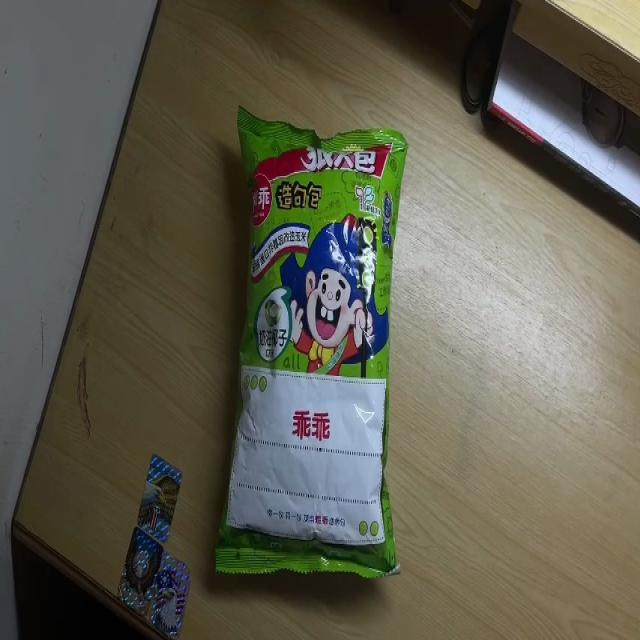Good-Luck: (213, 110, 402, 583)
